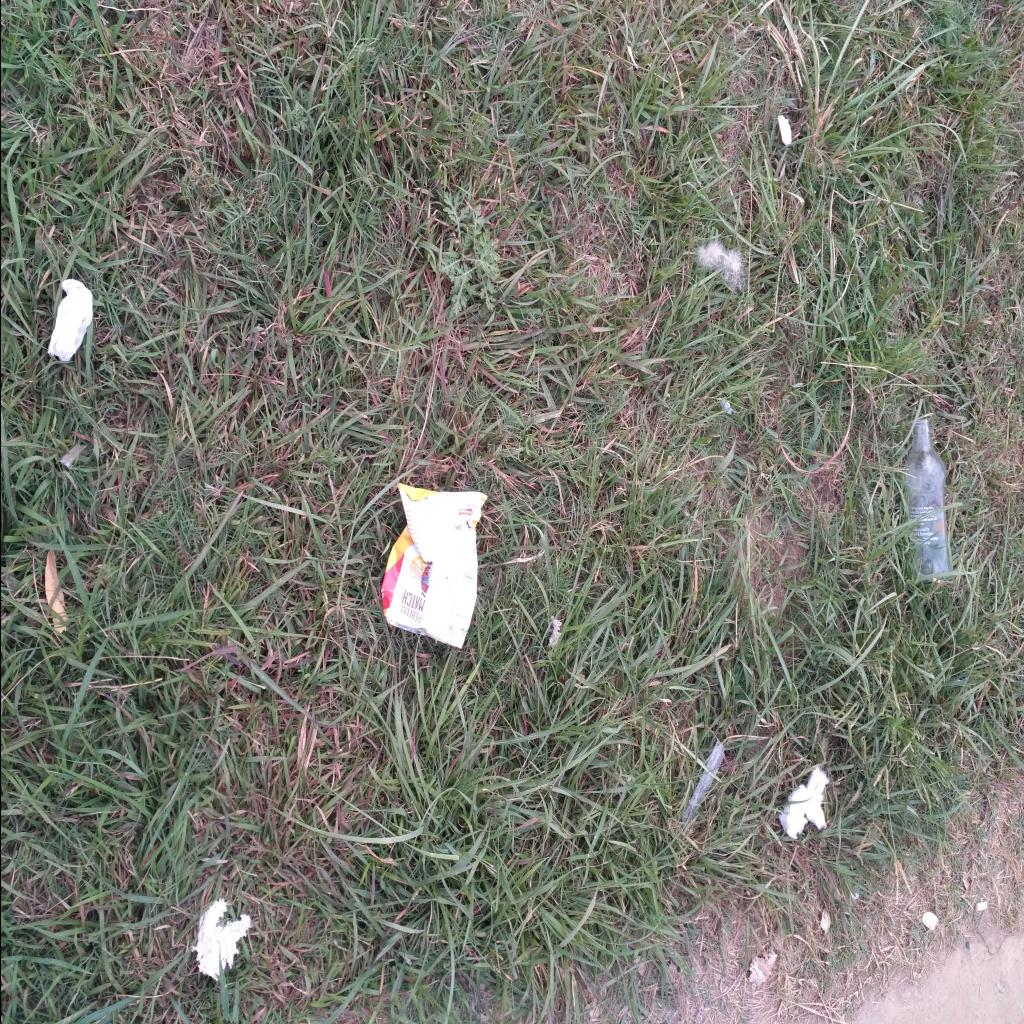Cigarette: (974, 902, 986, 912)
Crisp packet: (380, 482, 488, 648)
Glass bottle: (902, 419, 948, 574)
Plastic film: (48, 278, 92, 362), (682, 740, 724, 822), (55, 441, 85, 470)
Unlabeled litter: (196, 900, 248, 982), (779, 765, 829, 840), (778, 116, 790, 144)
